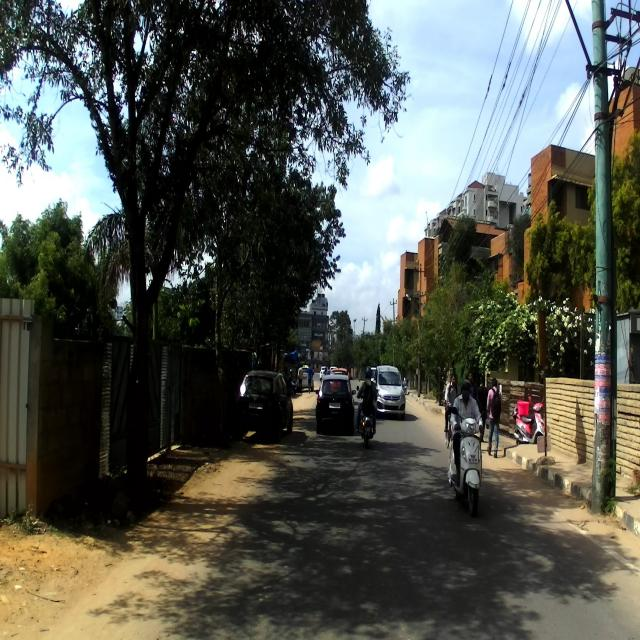car: (235, 370, 293, 441), (315, 376, 356, 435)
motorcycle: (356, 385, 378, 446)
scooter: (446, 402, 486, 519)
